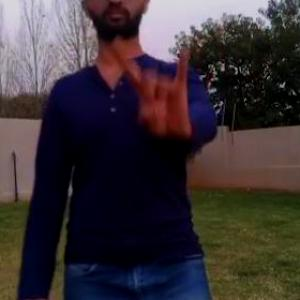takeoff-hand: (114, 28, 198, 141)
